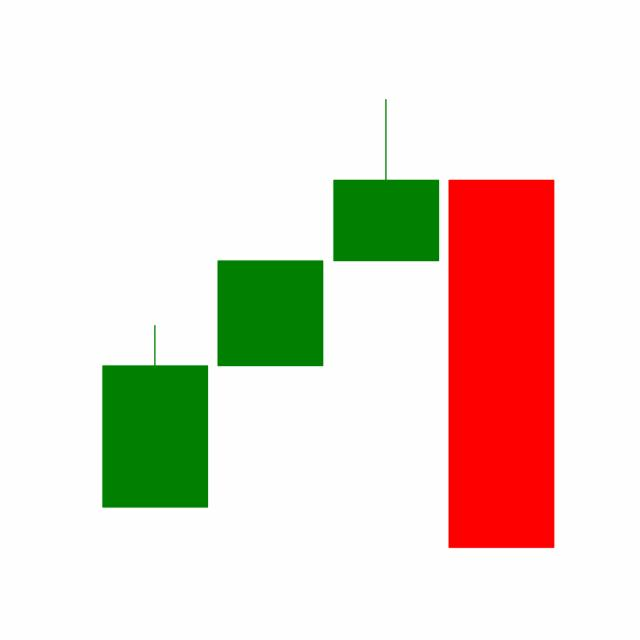Marubozu: (443, 175, 559, 552)
